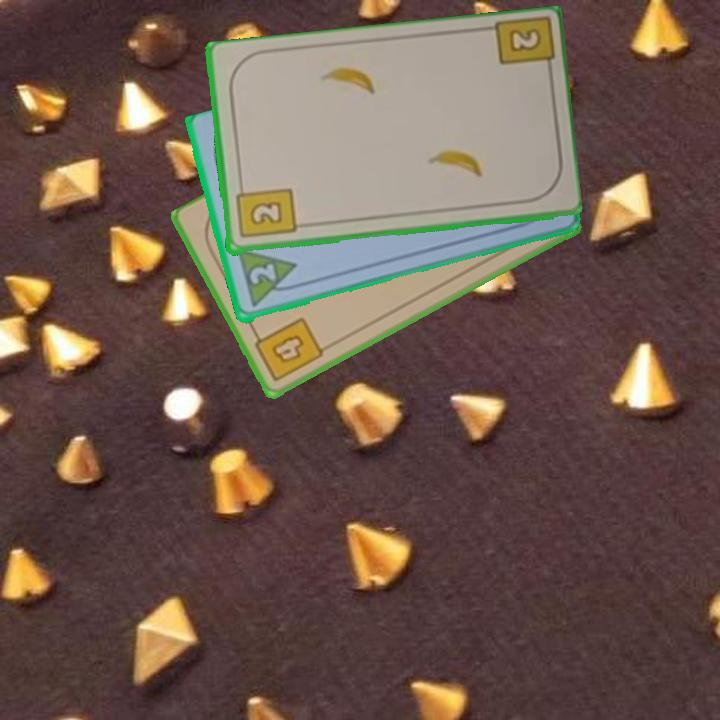2b: (488, 16, 555, 81), (232, 180, 298, 242)
2p: (234, 247, 304, 311)
4b: (249, 313, 327, 385)
